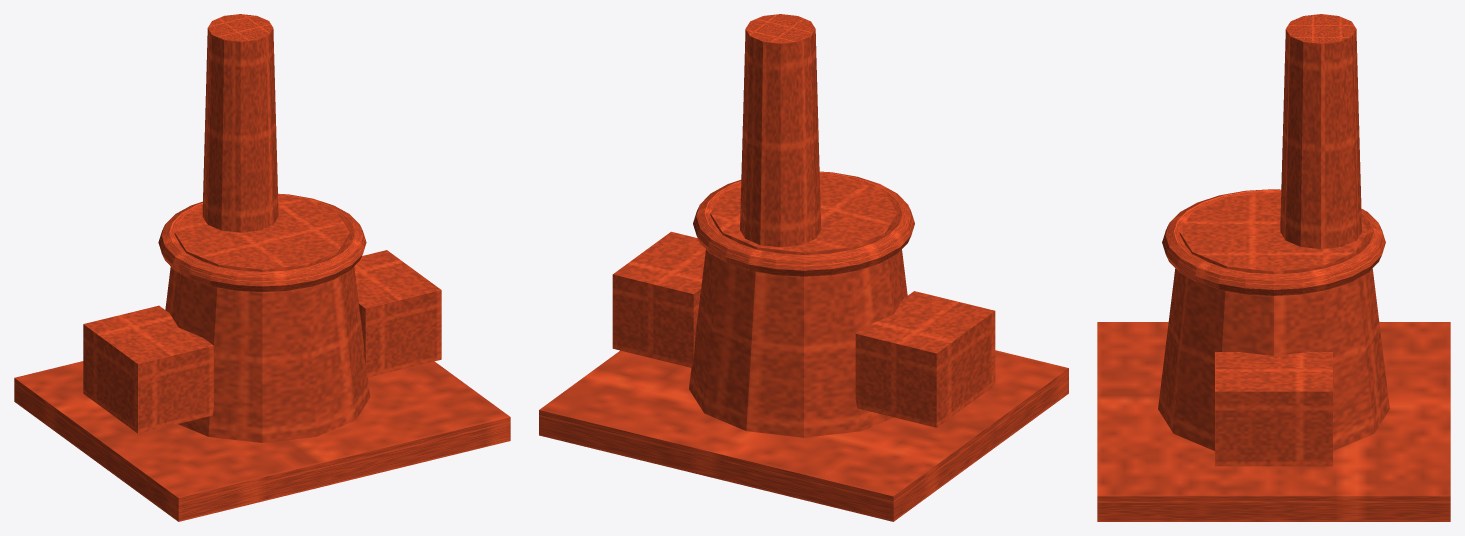
The model's file is ember_forge_00.glb.
3 views of the same model, side by side, from view 1: azimuth 30°, elevation 25°; view 2: azimuth 150°, elevation 25°; view 3: azimuth 270°, elevation 25° (orthographic). The views are drawn at different scales.
Visible parts, largest first — view 1: Foundation, Furnace, Chimney, Bellows, Bellows.001, FurnaceRim; view 2: Foundation, Furnace, Chimney, Bellows, Bellows.001, FurnaceRim; view 3: Foundation, Furnace, Chimney, Bellows.001, FurnaceRim.
Part boxes in pixels (x1,y1,x2,y2): Foundation: (14,361,510,521); Furnace: (165,197,370,442); Chimney: (202,14,278,232); Bellows: (83,305,213,433); Bellows.001: (354,250,441,377); FurnaceRim: (158,193,366,292); Foundation: (539,350,1068,521); Furnace: (689,175,907,437); Chimney: (740,14,821,247); Bellows: (855,291,995,427); Bellows.001: (612,231,705,367); FurnaceRim: (693,171,914,276); Foundation: (1097,322,1450,521); Furnace: (1158,192,1389,450); Chimney: (1280,14,1361,248); Bellows.001: (1215,352,1332,466); FurnaceRim: (1162,189,1385,295).
Size of the model in its own units: 3.5 by 3.8 by 3.
Materials: 1 (1 with a texture image).
